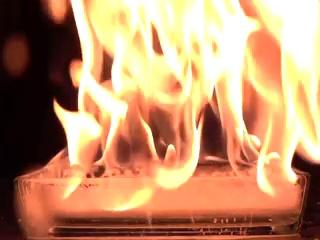Fire: (42, 1, 312, 206)
